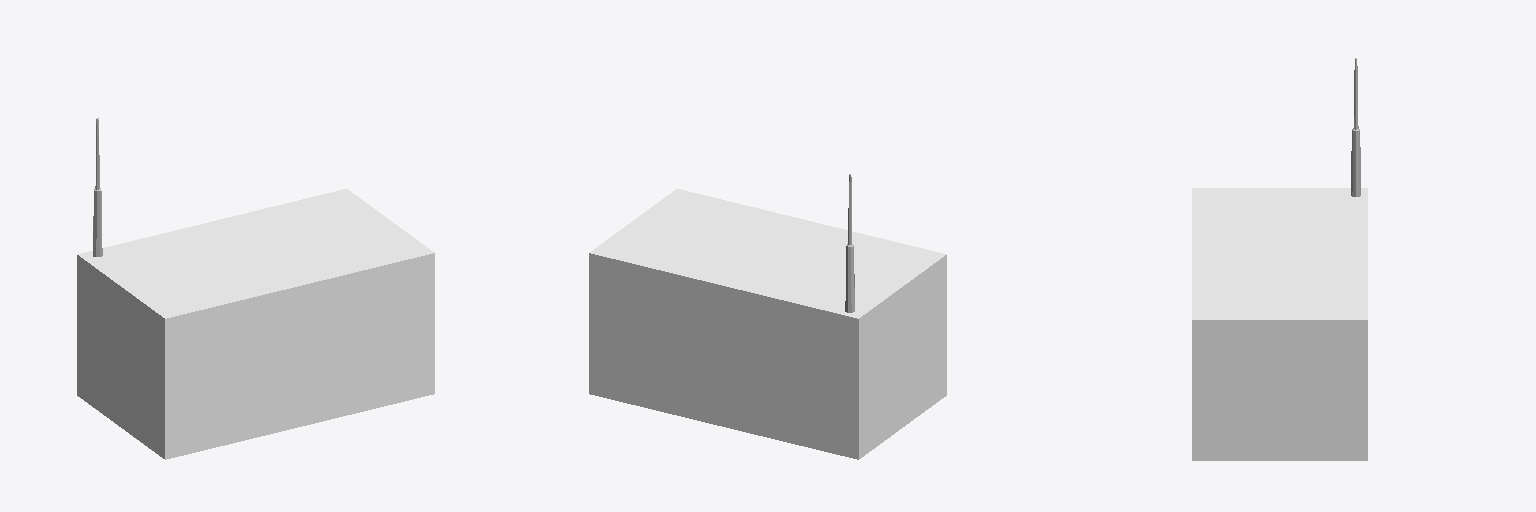
3 renders of one model, left to right at view 1: azimuth 30°, elevation 25°; view 2: azimuth 150°, elevation 25°; view 3: azimuth 270°, elevation 25°, orthographic.
Visible parts, largest first — view 1: cube1; view 2: cube1; view 3: cube1.
Part boxes in pixels (left/top/right/bottom): cube1: left=77, top=118, right=434, bottom=459; cube1: left=589, top=174, right=946, bottom=459; cube1: left=1192, top=58, right=1367, bottom=460.
Size of the model in its own units: 4 by 3.94 by 2.26.